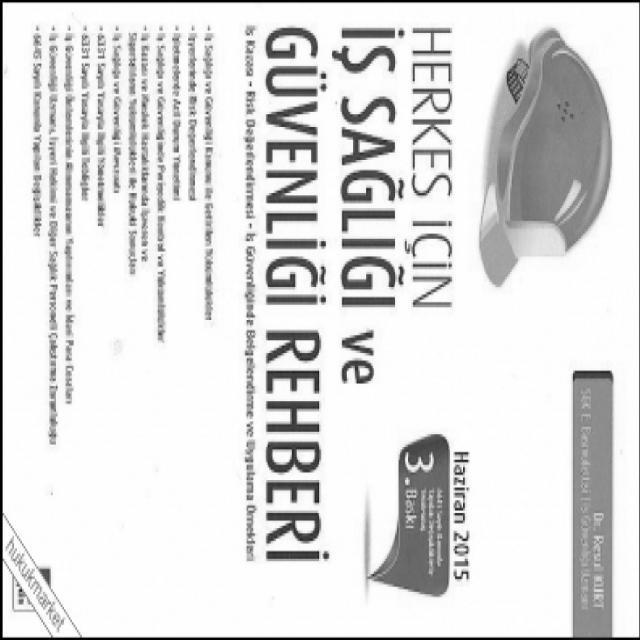safety_helmet: (476, 28, 612, 289)
